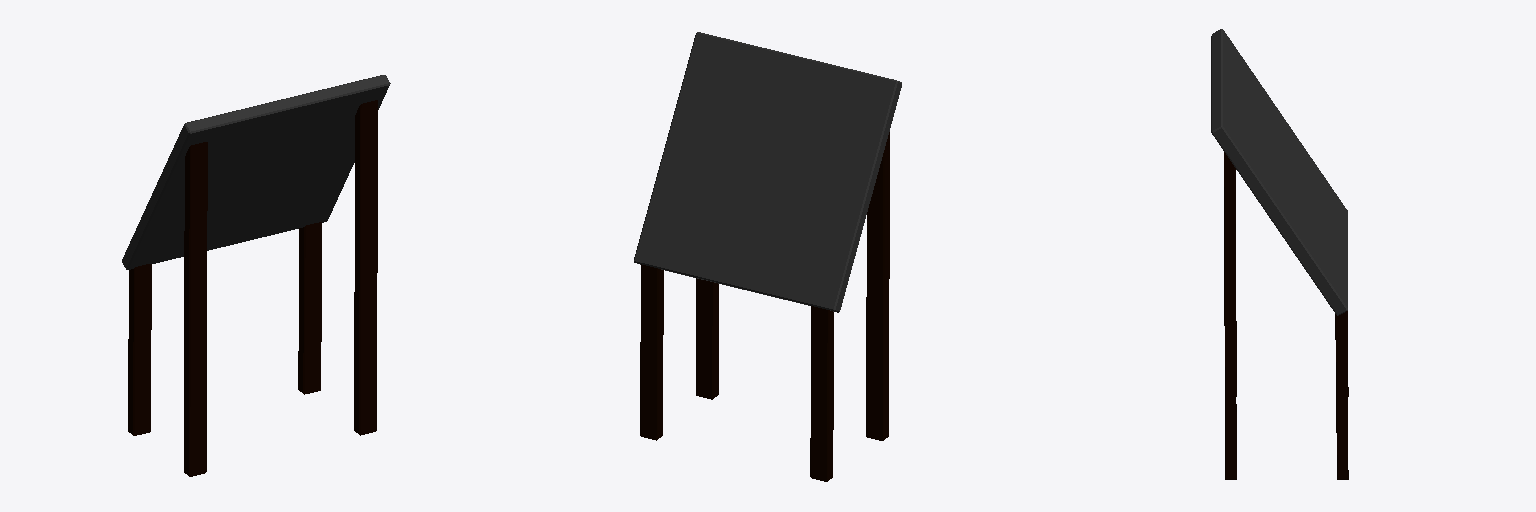
The model's file is PaintingCanvas1.obj.
The picture shows the model from 3 angles: view 1: azimuth 30°, elevation 25°; view 2: azimuth 150°, elevation 25°; view 3: azimuth 270°, elevation 25°; orthographic projection.
Visible parts, largest first — view 1: PaintingCanvas1_Cube.005; view 2: PaintingCanvas1_Cube.005; view 3: PaintingCanvas1_Cube.005.
Boxes of the visible parts, box(x1,y1,x2,y2) form: PaintingCanvas1_Cube.005: box(122, 75, 390, 476); PaintingCanvas1_Cube.005: box(634, 32, 901, 481); PaintingCanvas1_Cube.005: box(1211, 29, 1348, 479).
Bounding box in the file's own units: 0.9738 × 1.64 × 0.5722.